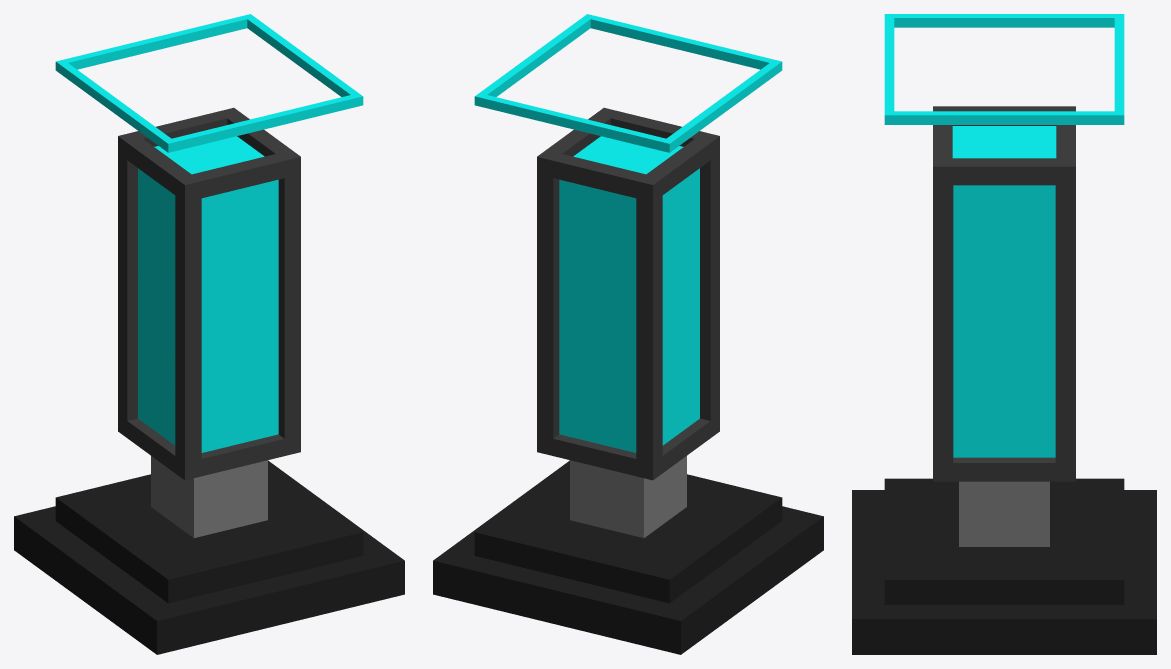
File: Goal2.fbx
The picture shows the model from 3 angles, left to right: view 1: azimuth 30°, elevation 25°; view 2: azimuth 150°, elevation 25°; view 3: azimuth 270°, elevation 25°; orthographic projection. The views are drawn at different scales.
Parts seen in each view (by area): view 1: APBody; view 2: APBody; view 3: APBody.
Boxes of the visible parts, x1,y1,x2,y2 form: APBody: (14,14,404,654); APBody: (433,14,823,654); APBody: (852,14,1156,654).
Size of the model in its own units: 0.7753 by 1.48 by 0.7753.
